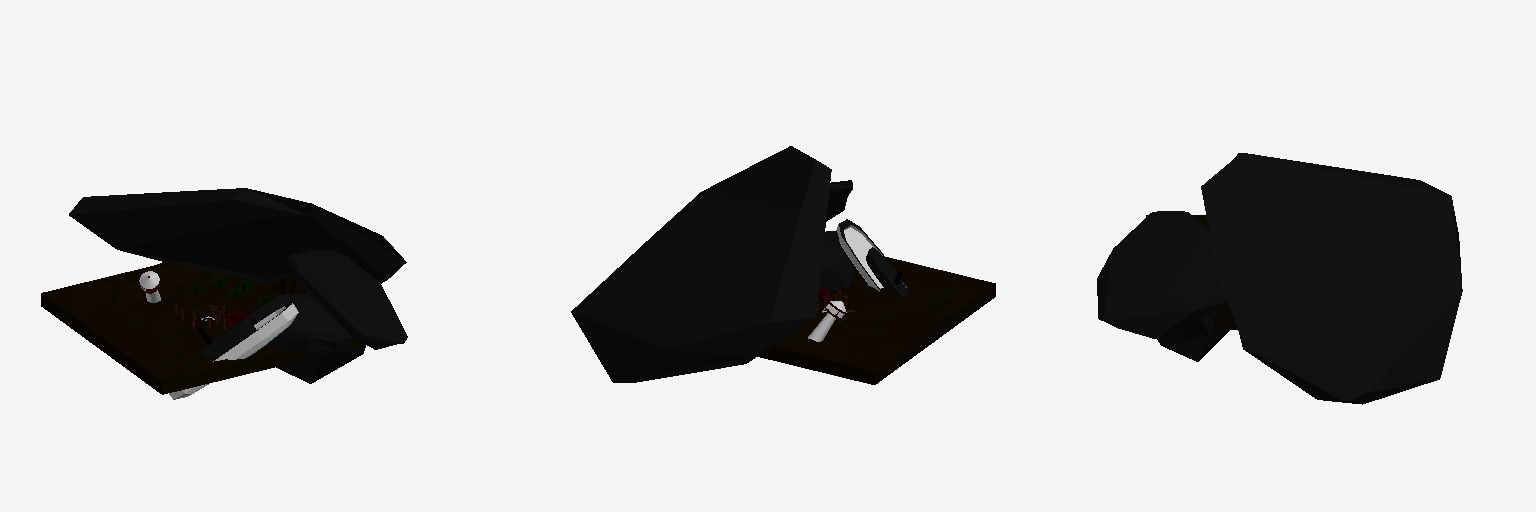
3 views of the same model, side by side, from view 1: azimuth 30°, elevation 25°; view 2: azimuth 150°, elevation 25°; view 3: azimuth 270°, elevation 25° (orthographic).
Parts seen in each view (by area): view 1: Icosphere.023, Cube, Icosphere.024, Icosphere.002, Cube.002_Cube.003, Cube.001_Cube.002; view 2: Icosphere.023, Cube, Icosphere.002, Cube.001_Cube.002, Cube.002_Cube.003, Icosphere.024, Cylinder.013; view 3: Icosphere.023, Icosphere.024, Icosphere.002, Cube.
Part boxes in pixels (bbox=[...]): Icosphere.023: bbox=[69, 188, 406, 284]; Cube: bbox=[41, 262, 365, 394]; Icosphere.024: bbox=[287, 249, 407, 349]; Icosphere.002: bbox=[248, 293, 365, 383]; Cube.002_Cube.003: bbox=[169, 303, 298, 399]; Cube.001_Cube.002: bbox=[196, 301, 291, 360]; Icosphere.023: bbox=[571, 146, 831, 382]; Cube: bbox=[758, 257, 995, 384]; Icosphere.002: bbox=[819, 230, 854, 290]; Cube.001_Cube.002: bbox=[839, 219, 908, 297]; Cube.002_Cube.003: bbox=[837, 224, 906, 291]; Icosphere.024: bbox=[826, 180, 852, 221]; Cylinder.013: bbox=[808, 301, 846, 341]; Icosphere.023: bbox=[1201, 153, 1462, 404]; Icosphere.024: bbox=[1097, 211, 1227, 338]; Icosphere.002: bbox=[1157, 311, 1229, 361]; Cube: bbox=[1146, 215, 1237, 329].
Bounding box in the file's own units: 206 × 109 × 202.